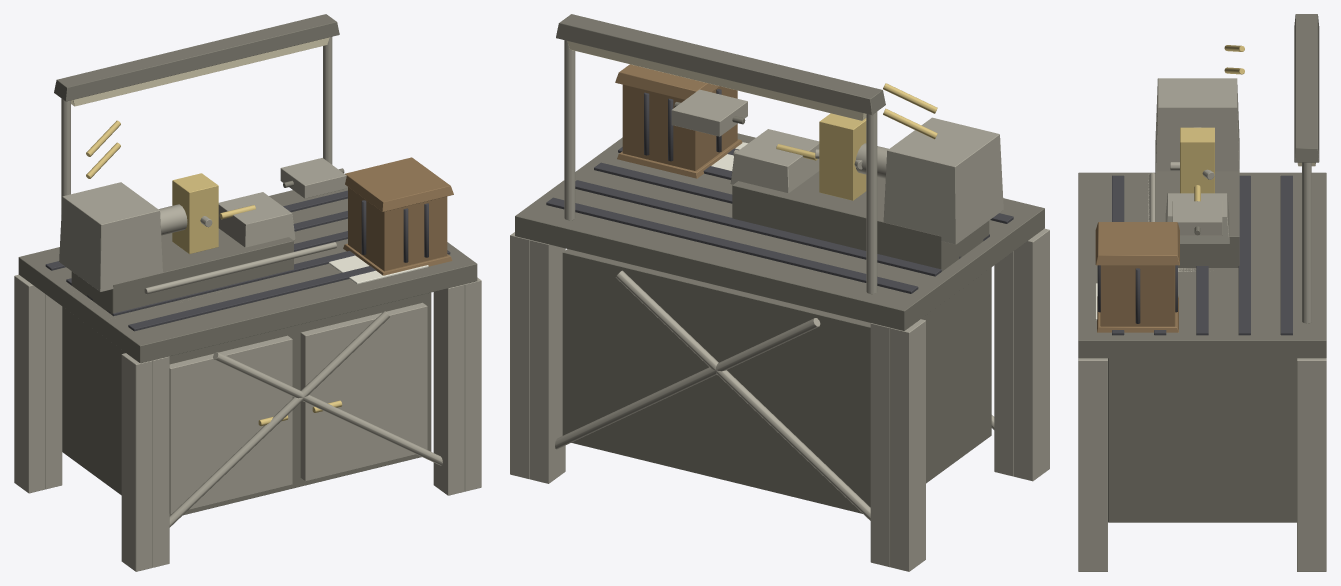
File: DD_workbench3_L0.fbx
The picture shows the model from 3 angles, left to right: view 1: azimuth 30°, elevation 25°; view 2: azimuth 150°, elevation 25°; view 3: azimuth 270°, elevation 25°; orthographic projection. The views are drawn at different scales.
Parts seen in each view (by area): view 1: DD_workbench3_L0; view 2: DD_workbench3_L0; view 3: DD_workbench3_L0.
Boxes of the visible parts, left/top/right/bottom form: DD_workbench3_L0: left=14, top=14, right=481, bottom=571; DD_workbench3_L0: left=510, top=14, right=1049, bottom=571; DD_workbench3_L0: left=1078, top=14, right=1326, bottom=571.
Bounding box in the file's own units: 1.64 × 1.8 × 1.
